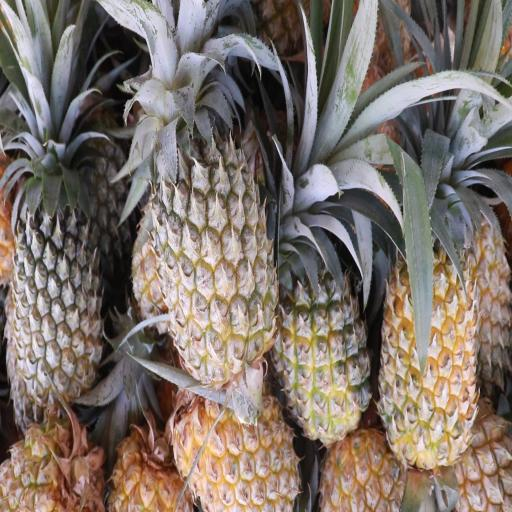------------------------------: (150, 51, 286, 402), (268, 198, 372, 451)
Pineapple - v8 v1: (378, 173, 484, 473), (170, 381, 302, 510)
